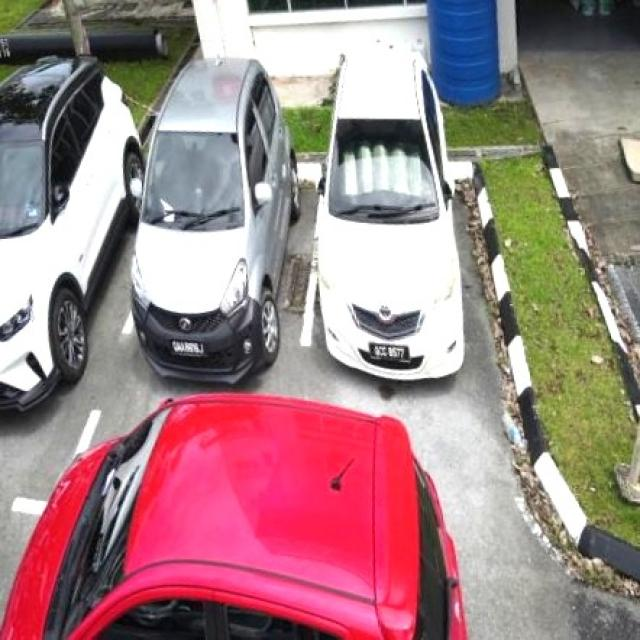Legalparking: (133, 59, 298, 382), (0, 58, 142, 407), (320, 58, 462, 378)
illegalparking: (0, 392, 466, 639)
